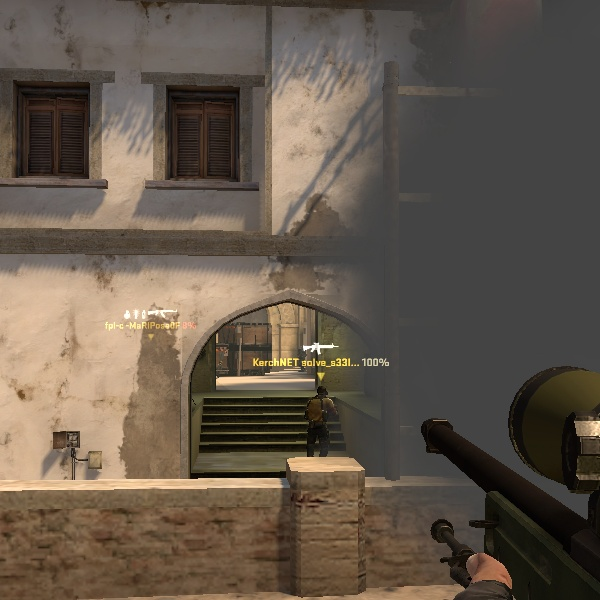t_body: (297, 381, 344, 457)
